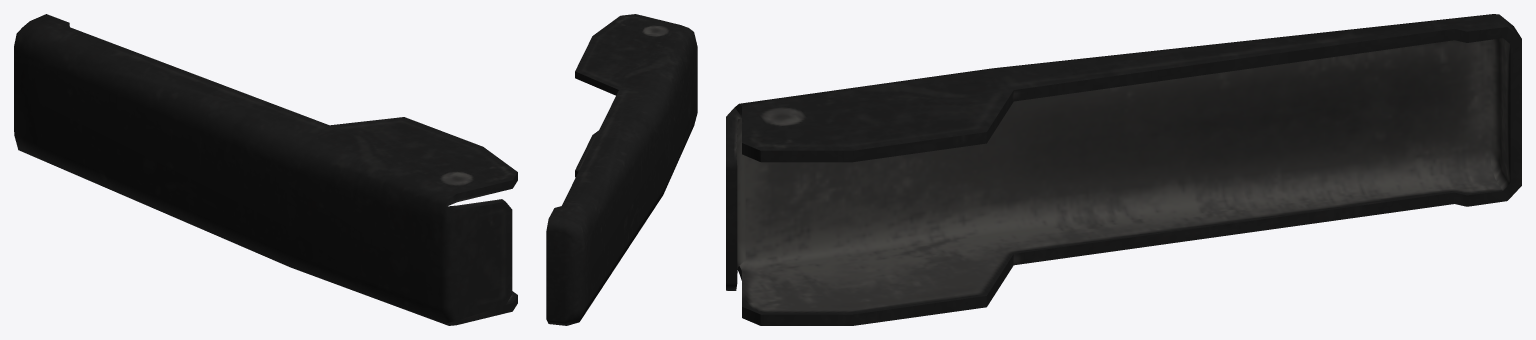
The model's file is SM_FireExtinguisher_Part_05.FBX.
The picture shows the model from 3 angles, left to right: view 1: azimuth 30°, elevation 25°; view 2: azimuth 150°, elevation 25°; view 3: azimuth 270°, elevation 25°; orthographic projection. The views are drawn at different scales.
Parts seen in each view (by area): view 1: SM_FireExtinguisher_Part_05_LOD0; view 2: SM_FireExtinguisher_Part_05_LOD0; view 3: SM_FireExtinguisher_Part_05_LOD0.
Part boxes in pixels (bbox=[...]): SM_FireExtinguisher_Part_05_LOD0: bbox=[14, 14, 517, 325]; SM_FireExtinguisher_Part_05_LOD0: bbox=[546, 14, 697, 325]; SM_FireExtinguisher_Part_05_LOD0: bbox=[726, 14, 1521, 325].
Size of the model in its own units: 7.55 by 17.02 by 4.13.
